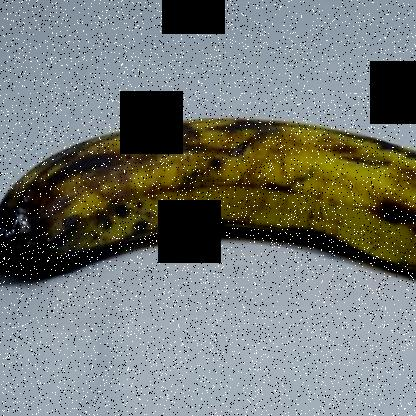overripe: (1, 100, 409, 327)
rotten: (1, 138, 142, 302)
